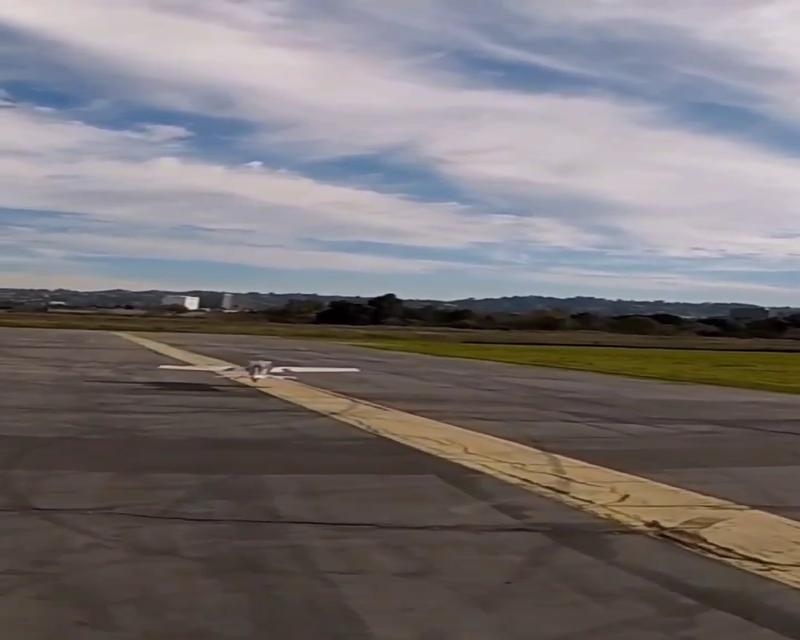UAV: (158, 359, 360, 383)
